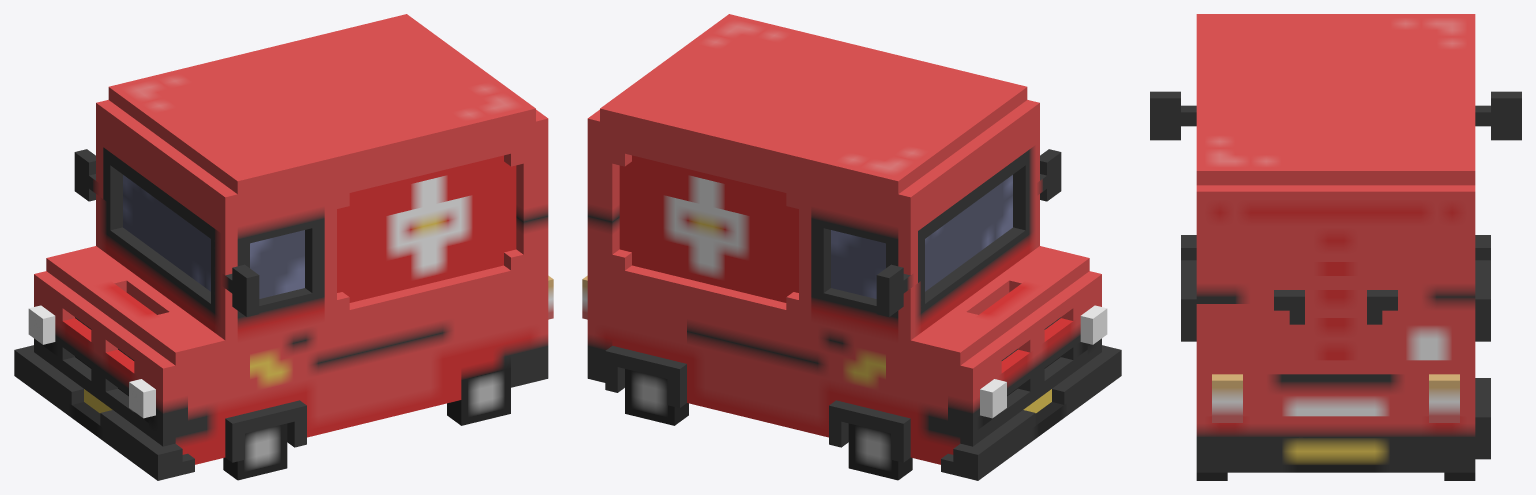
Rendered from mailvan.obj.
The picture shows the model from 3 angles, left to right: view 1: azimuth 30°, elevation 25°; view 2: azimuth 150°, elevation 25°; view 3: azimuth 270°, elevation 25°; orthographic projection. The views are drawn at different scales.
Visible parts, largest first — view 1: Box_85; view 2: Box_85; view 3: Box_85.
Part boxes in pixels (bbox=[...]): Box_85: bbox=[14, 14, 553, 480]; Box_85: bbox=[582, 14, 1121, 480]; Box_85: bbox=[1150, 14, 1521, 480].
Size of the model in its own units: 33 by 23 by 24.
Materials: 1 (1 with a texture image).
